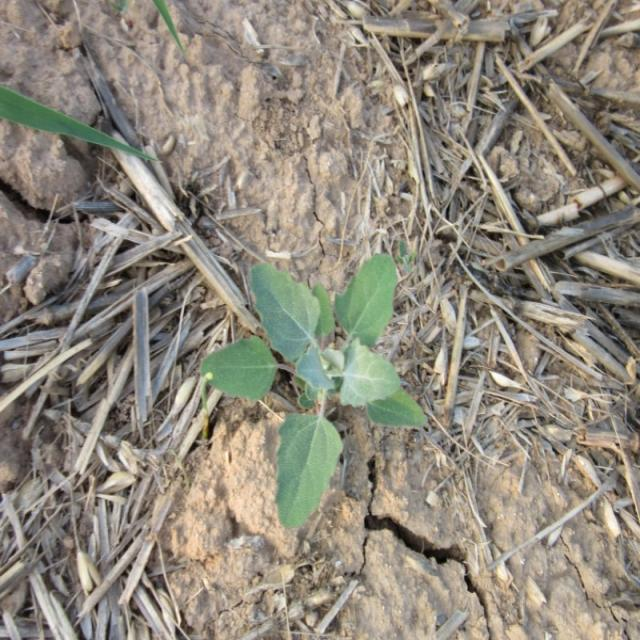ca: (206, 257, 426, 524)
